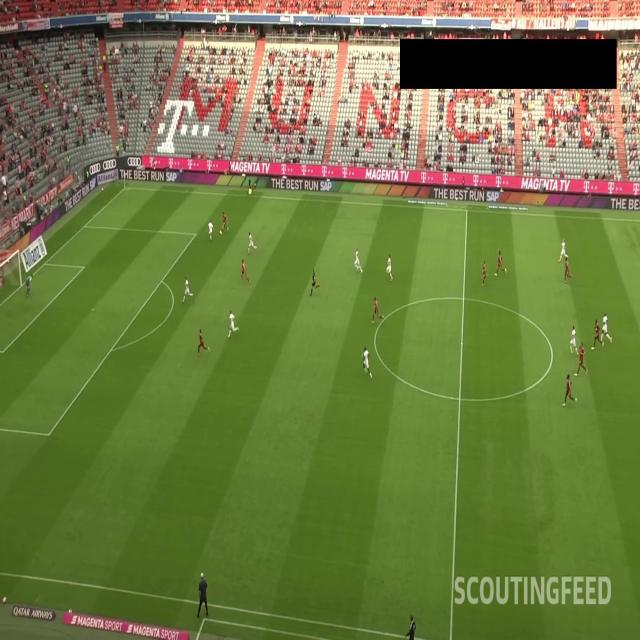ball: (218, 226, 223, 237)
player: (560, 371, 578, 408), (369, 294, 386, 325), (590, 315, 605, 350), (574, 340, 588, 377), (601, 312, 615, 346), (180, 275, 194, 307), (196, 326, 210, 356), (361, 346, 374, 378), (226, 310, 240, 338), (494, 250, 508, 278), (562, 255, 574, 282), (570, 322, 579, 357), (353, 247, 363, 275), (558, 236, 568, 264), (25, 270, 35, 297), (480, 257, 489, 287), (385, 252, 394, 281), (206, 218, 216, 244), (240, 258, 250, 284), (248, 231, 258, 257), (221, 210, 229, 234)
referee: (309, 267, 320, 298), (246, 175, 254, 197)
